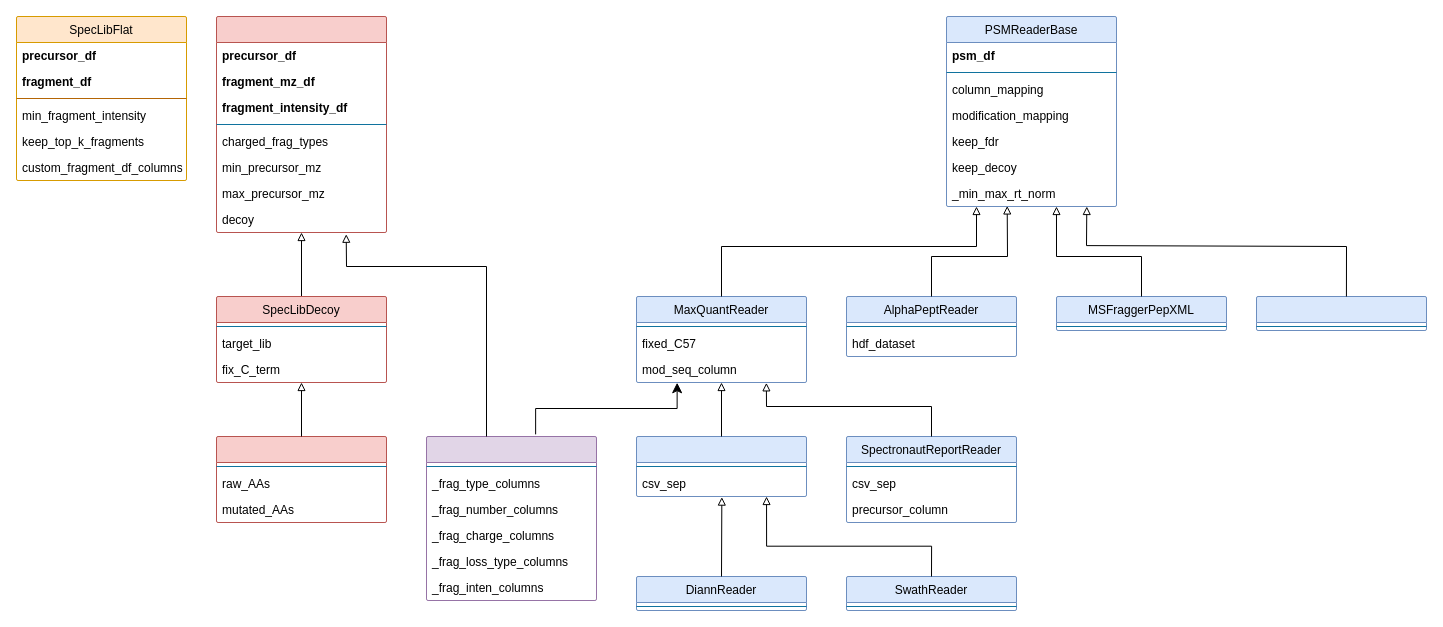
Image size: 1443x627. Some labels were removed from this diagram. The box of each missing label's shape, as (x1, y1, x2, y2) in pixels:
LibraryReaderBase: (426, 436, 596, 600)
pFindReader: (1256, 296, 1426, 330)
SpecLibBase: (216, 16, 386, 232)
SpecLibDecoyDiaNN: (216, 436, 386, 522)
SpectronautReader: (636, 436, 806, 496)
